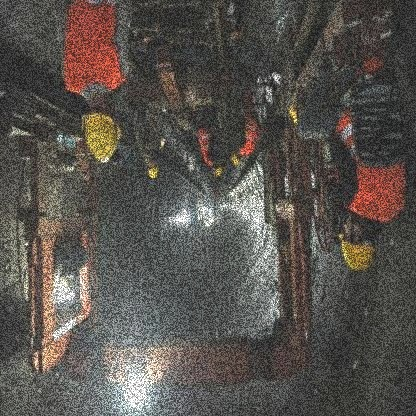vest: (329, 57, 407, 224), (56, 3, 129, 98), (238, 119, 262, 161), (194, 128, 214, 169)
yellow: (73, 114, 123, 169), (332, 233, 376, 279), (145, 166, 161, 184), (227, 152, 242, 171), (211, 164, 224, 181)
